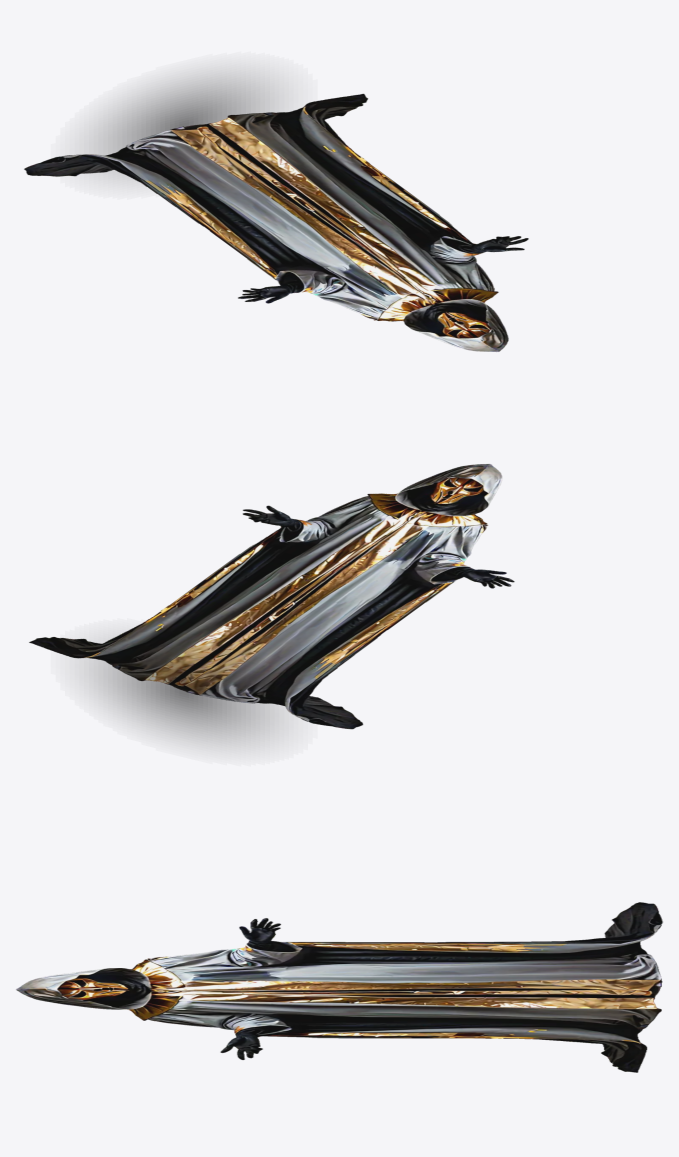
File: boss-ekran.glb
3 views of the same model, one above another, from view 1: azimuth 30°, elevation 25°; view 2: azimuth 150°, elevation 25°; view 3: azimuth 270°, elevation 25° (orthographic). The views are drawn at different scales.
Parts seen in each view (by area): view 1: Body, Shadow; view 2: Body, Shadow; view 3: Body.
Boxes of the visible parts, left/top/right/bottom form: Body: left=24, top=94, right=528, bottom=351; Shadow: left=93, top=75, right=274, bottom=173; Body: left=29, top=464, right=514, bottom=729; Shadow: left=93, top=641, right=274, bottom=742; Body: left=16, top=902, right=662, bottom=1072.
Size of the model in its own units: 1 by 0.42 by 1.6.
2 materials, 2 textured.
